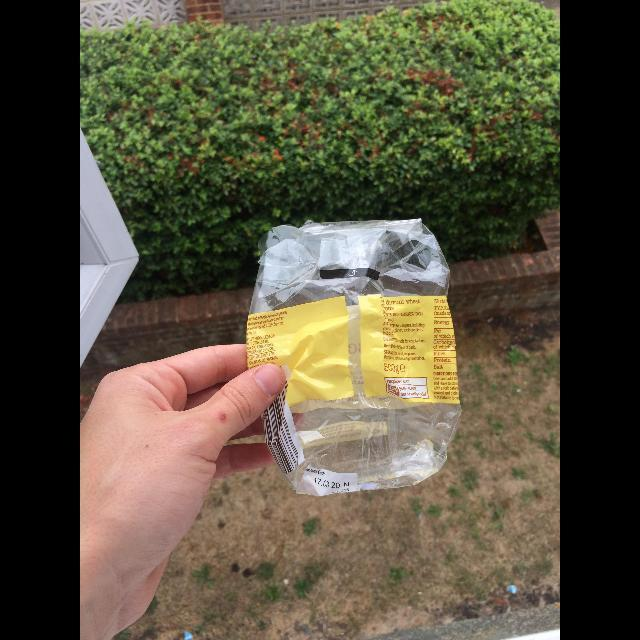Plastic: (246, 218, 462, 496)
